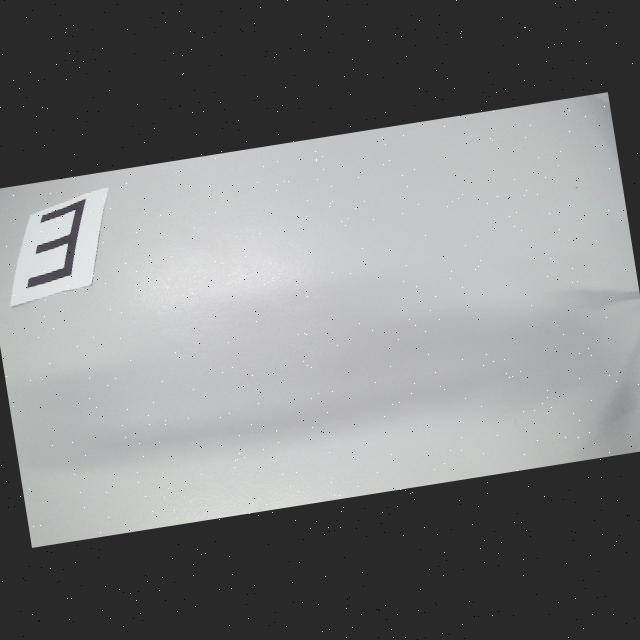FAKE: (15, 198, 100, 288)
